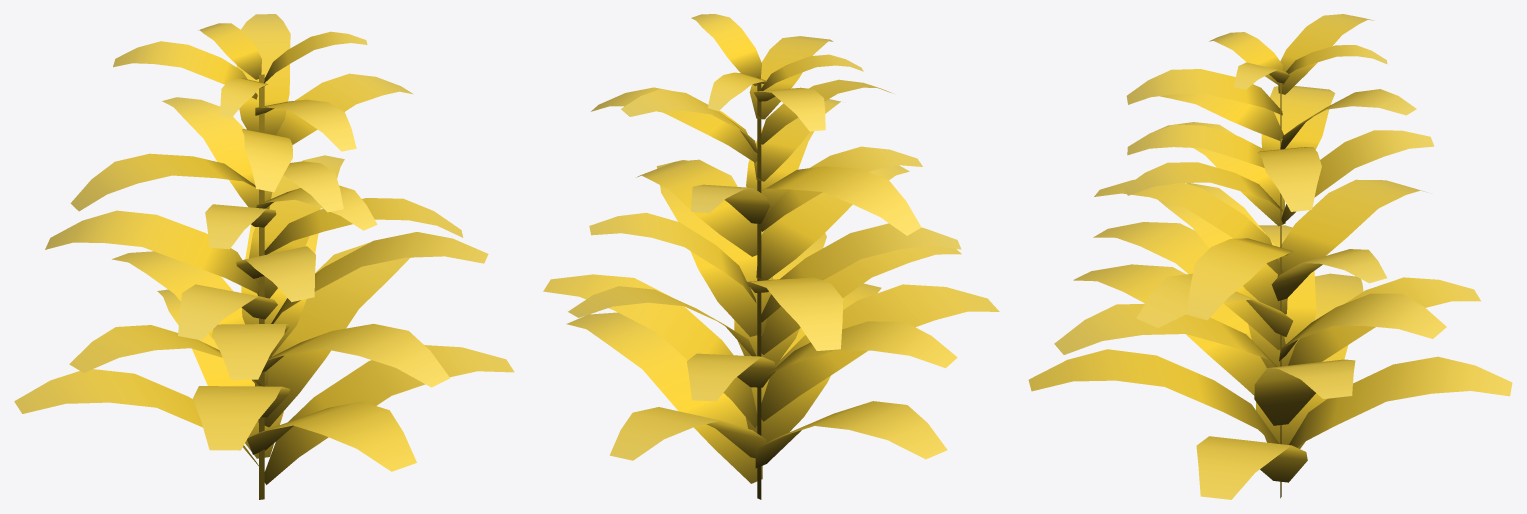
The model's file is plant_006.fbx.
3 renders of one model, left to right at view 1: azimuth 30°, elevation 25°; view 2: azimuth 150°, elevation 25°; view 3: azimuth 270°, elevation 25°, orthographic.
Visible parts, largest first — view 1: plant.006; view 2: plant.006; view 3: plant.006.
Boxes of the visible parts, box(x1,y1,x2,y2) form: plant.006: box(14, 14, 514, 499); plant.006: box(543, 14, 999, 499); plant.006: box(1028, 14, 1512, 499).
Bounding box in the file's own units: 49.6 × 49.94 × 47.99.
